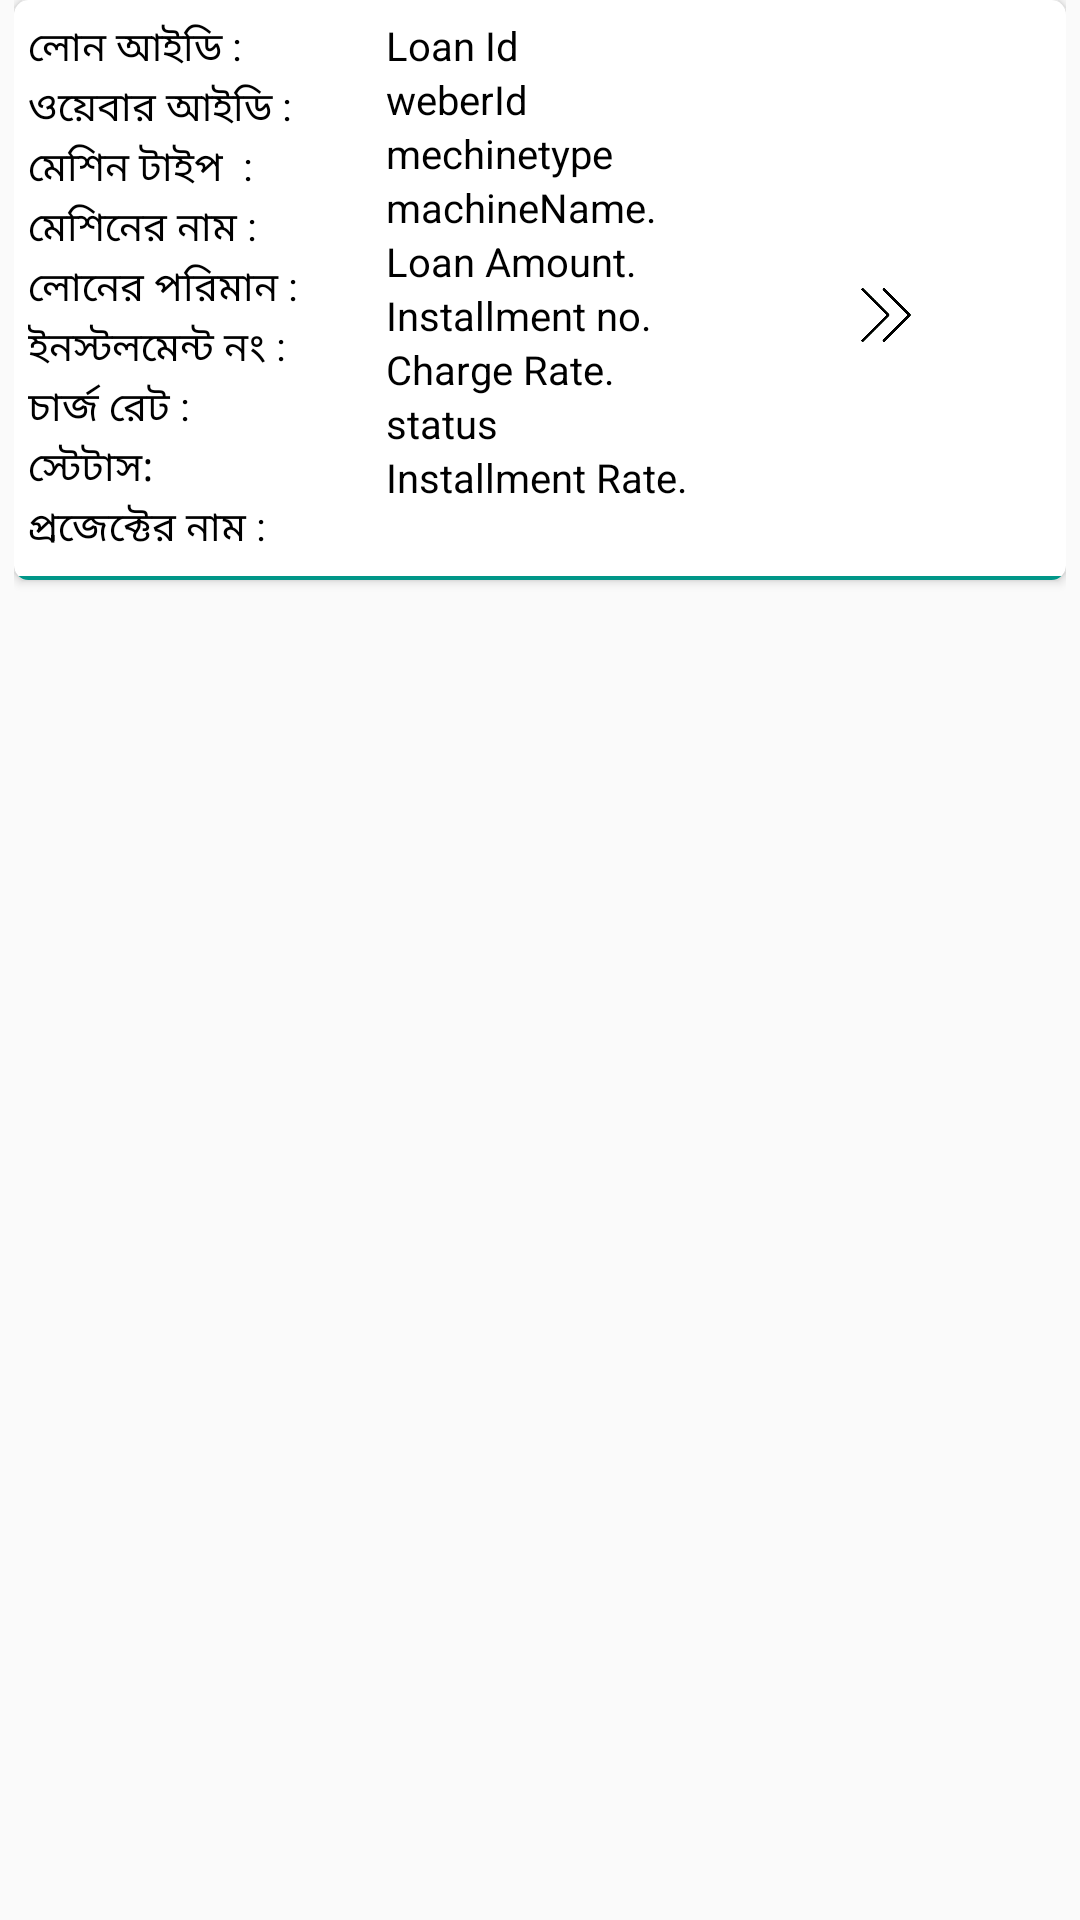

Screen size 1080*1920. Icon name, then its center in pixels as (x,y):
next: (886,315)
